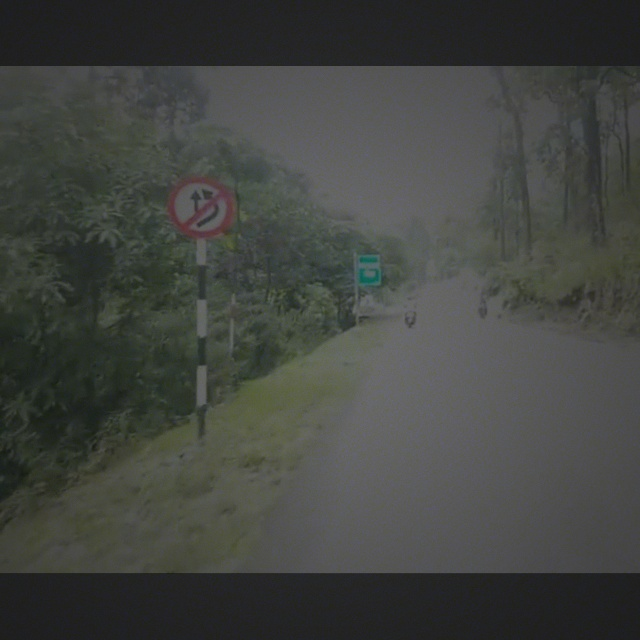Overtaking_Prohibited: (168, 177, 233, 238)
